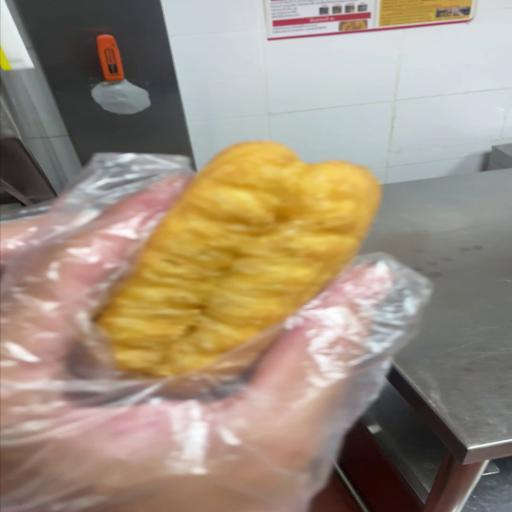brand_golden_good: (98, 143, 379, 376)
